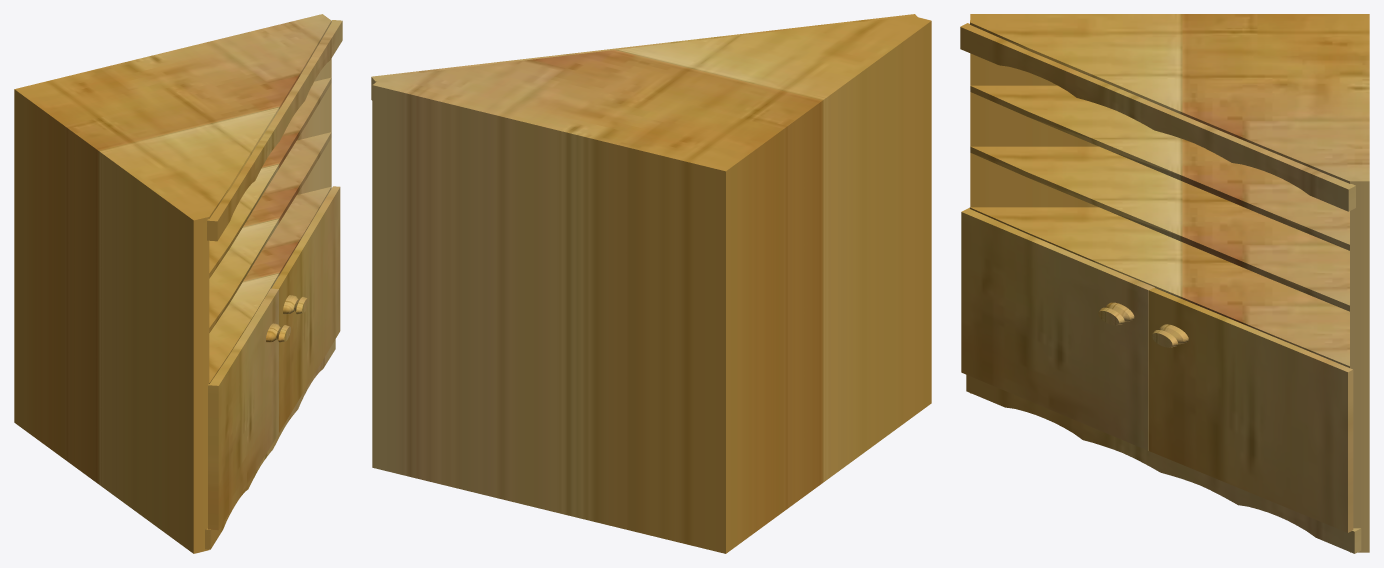
File: sh-contrib-corner-china.glb
3 views of the same model, side by side, from view 1: azimuth 30°, elevation 25°; view 2: azimuth 150°, elevation 25°; view 3: azimuth 270°, elevation 25° (orthographic). The views are drawn at different scales.
Parts seen in each view (by area): view 1: PolyMesh_2; view 2: PolyMesh_2; view 3: PolyMesh_2.
Boxes of the visible parts, <box> form: PolyMesh_2: <box>14,14,342,553</box>; PolyMesh_2: <box>371,14,931,553</box>; PolyMesh_2: <box>960,14,1369,553</box>.
Size of the model in its own units: 1 by 1 by 1.
1 material, 1 textured.
